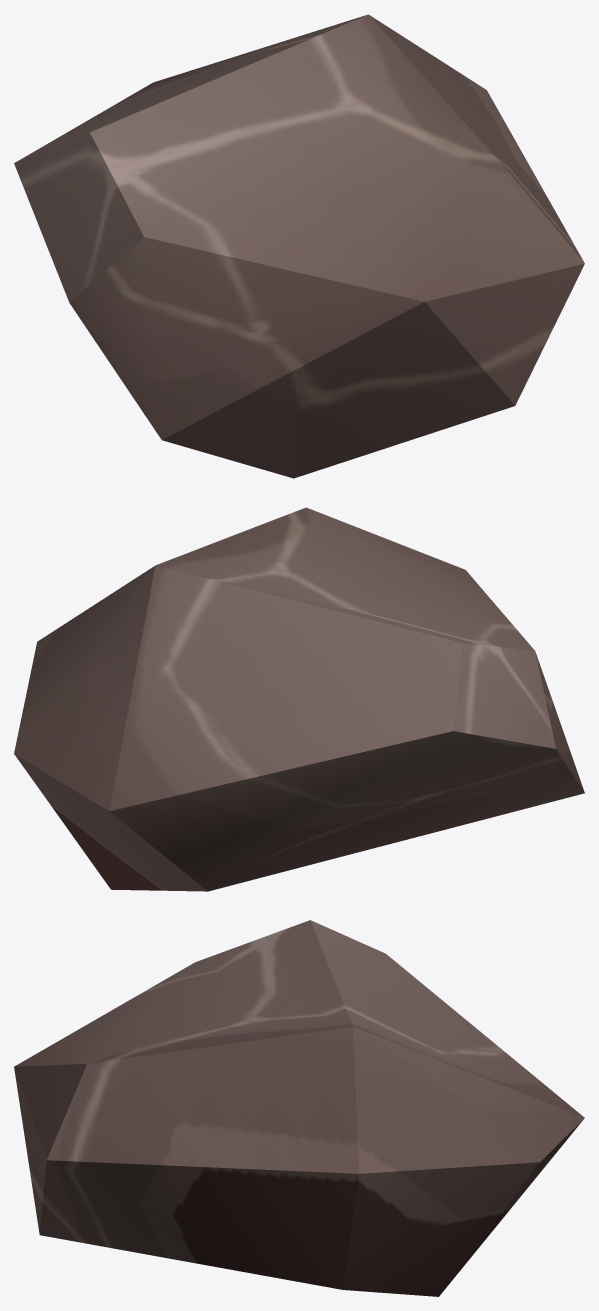
The model's file is resource_rock.fbx.
The picture shows the model from 3 angles, top to bottom: view 1: azimuth 30°, elevation 25°; view 2: azimuth 150°, elevation 25°; view 3: azimuth 270°, elevation 25°; orthographic projection. The views are drawn at different scales.
Visible parts, largest first — view 1: resource_rock; view 2: resource_rock; view 3: resource_rock.
Part boxes in pixels (x1=…): resource_rock: x1=14, y1=14, x2=584, y2=478; resource_rock: x1=14, y1=507, x2=584, y2=891; resource_rock: x1=14, y1=920, x2=584, y2=1296.
Bounding box in the file's own units: 21.3 × 12.97 × 24.75.
